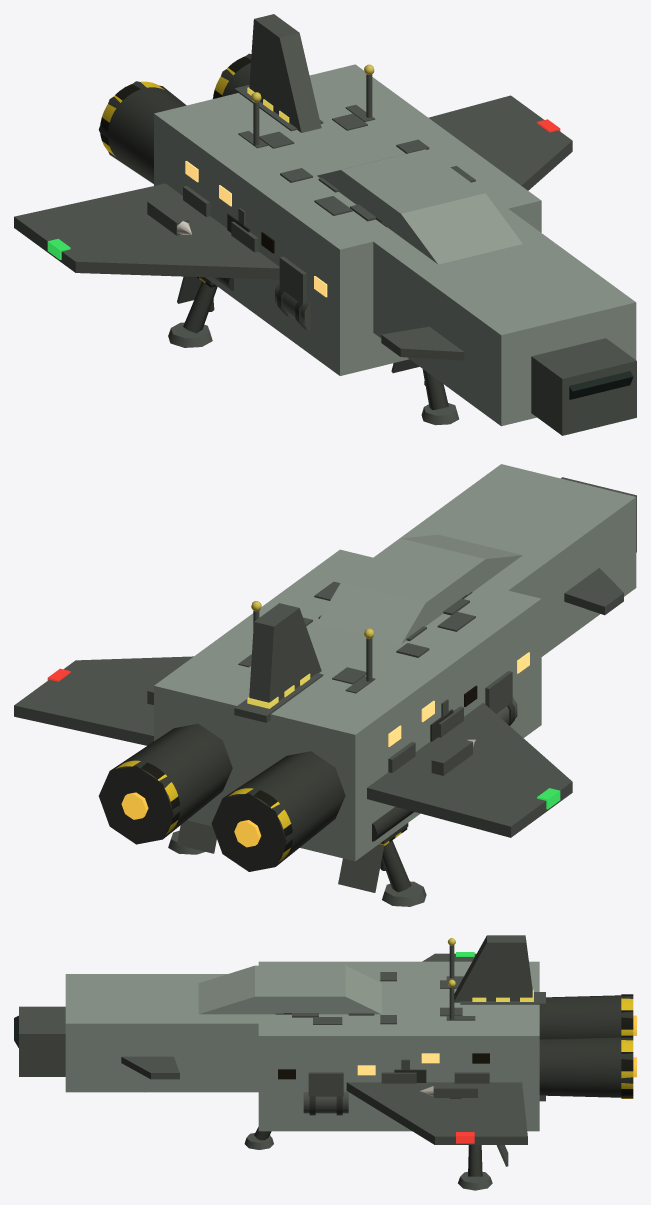
The model's file is trader-m.glb.
The picture shows the model from 3 angles, top to bottom: view 1: azimuth 30°, elevation 25°; view 2: azimuth 150°, elevation 25°; view 3: azimuth 270°, elevation 25°; orthographic projection. The views are drawn at different scales.
Parts seen in each view (by area): view 1: hullMain, hullNose, wingLeft, canopyFairing, hullNoseTip, wingRight, stabilizerFin, engineHousing (×2), canardLeft, gearStrut (×2), gearFoot (×2), ventGreeble2L (+3 smaller); view 2: hullMain, hullNose, engineHousing (×2), wingLeft, canopyFairing, wingRight, stabilizerFin, gearBayDoor (×2), canardLeft, iffPlinthDorsal, missileBody, gearStrut (+3 smaller); view 3: hullMain, hullNose, engineHousing (×2), canopyFairing, wingRight, stabilizerFin, hullNoseTip, canardRight, ventGreeble2R, traderShipPropellantTankR, missileBody, gearFoot (+4 smaller).
Boxes of the visible parts, left/top/right/bottom form: hullMain: left=154, top=64, right=541, bottom=375; hullNose: left=362, top=200, right=636, bottom=426; wingLeft: left=14, top=183, right=279, bottom=279; canopyFairing: left=317, top=149, right=522, bottom=264; hullNoseTip: left=531, top=338, right=636, bottom=435; wingRight: left=428, top=95, right=572, bottom=190; stabilizerFin: left=249, top=14, right=321, bottom=132; engineHousing (×2): left=98, top=53, right=251, bottom=183; canardLeft: left=381, top=326, right=464, bottom=360; gearStrut (×2): left=183, top=281, right=448, bottom=409; gearFoot (×2): left=168, top=322, right=458, bottom=425; ventGreeble2L: left=279, top=256, right=306, bottom=304; hullMain: left=154, top=549, right=541, bottom=861; hullNose: left=362, top=464, right=636, bottom=656; engineHousing (×2): left=98, top=723, right=345, bottom=871; wingLeft: left=367, top=703, right=572, bottom=837; canopyFairing: left=317, top=534, right=522, bottom=644; wingRight: left=14, top=656, right=193, bottom=745; stabilizerFin: left=249, top=603, right=321, bottom=702; gearBayDoor (×2): left=177, top=820, right=384, bottom=892; canardLeft: left=564, top=568, right=623, bottom=615; iffPlinthDorsal: left=234, top=673, right=323, bottom=722; missileBody: left=431, top=739, right=472, bottom=775; gearStrut: left=382, top=840, right=411, bottom=892; hullMain: left=258, top=961, right=539, bottom=1131; hullNose: left=65, top=974, right=276, bottom=1092; engineHousing (×2): left=539, top=995, right=633, bottom=1097; canopyFairing: left=198, top=965, right=381, bottom=1014; wingRight: left=346, top=1082, right=527, bottom=1144; stabilizerFin: left=454, top=935, right=532, bottom=1002; hullNoseTip: left=19, top=1006, right=65, bottom=1076; canardRight: left=121, top=1056, right=179, bottom=1079; ventGreeble2R: left=308, top=1072, right=343, bottom=1096; traderShipPropellantTankR: left=303, top=1092, right=348, bottom=1113; missileBody: left=433, top=1084, right=477, bottom=1097; gearFoot: left=458, top=1171, right=492, bottom=1190.
Size of the model in its own units: 3.72 by 1.93 by 5.33.
